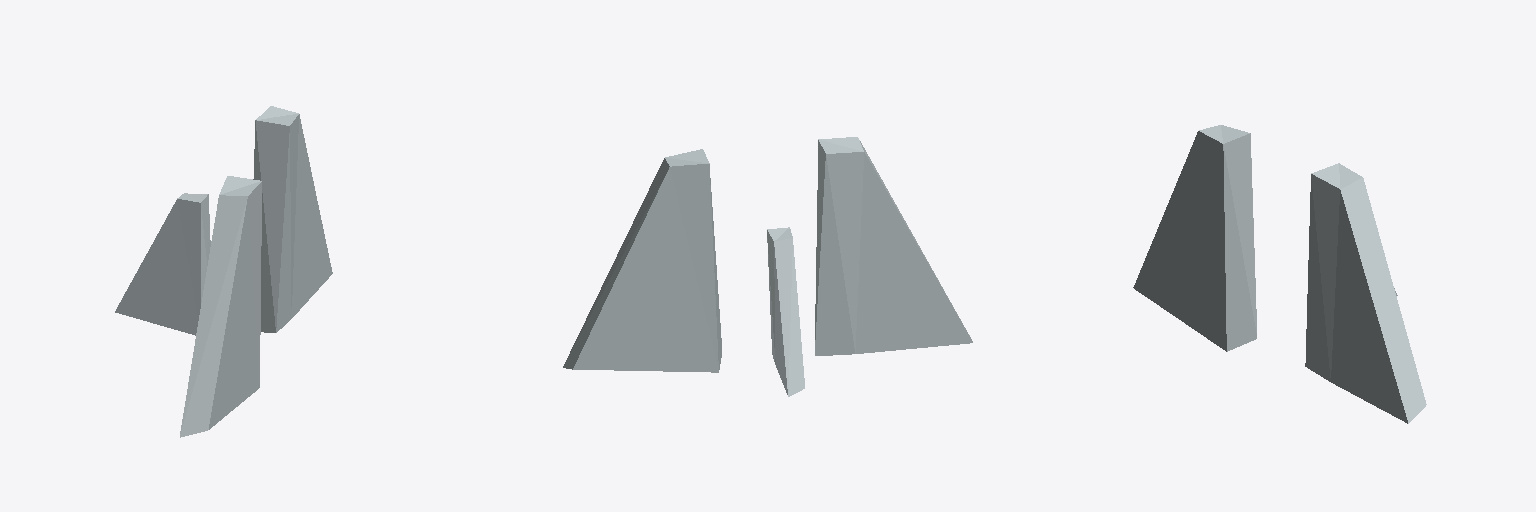
The model's file is Spaceship2.obj.
The picture shows the model from 3 angles: view 1: azimuth 30°, elevation 25°; view 2: azimuth 150°, elevation 25°; view 3: azimuth 270°, elevation 25°; orthographic projection.
Parts seen in each view (by area): view 1: group[number redacted]; view 2: group[number redacted]; view 3: group[number redacted].
Boxes of the visible parts, x1,y1,x2,y2 form: group[number redacted]: [115, 106, 332, 437]; group[number redacted]: [563, 137, 972, 396]; group[number redacted]: [1133, 125, 1426, 423].
Bounding box in the file's own units: 0.1779 × 0.1289 × 0.1603.